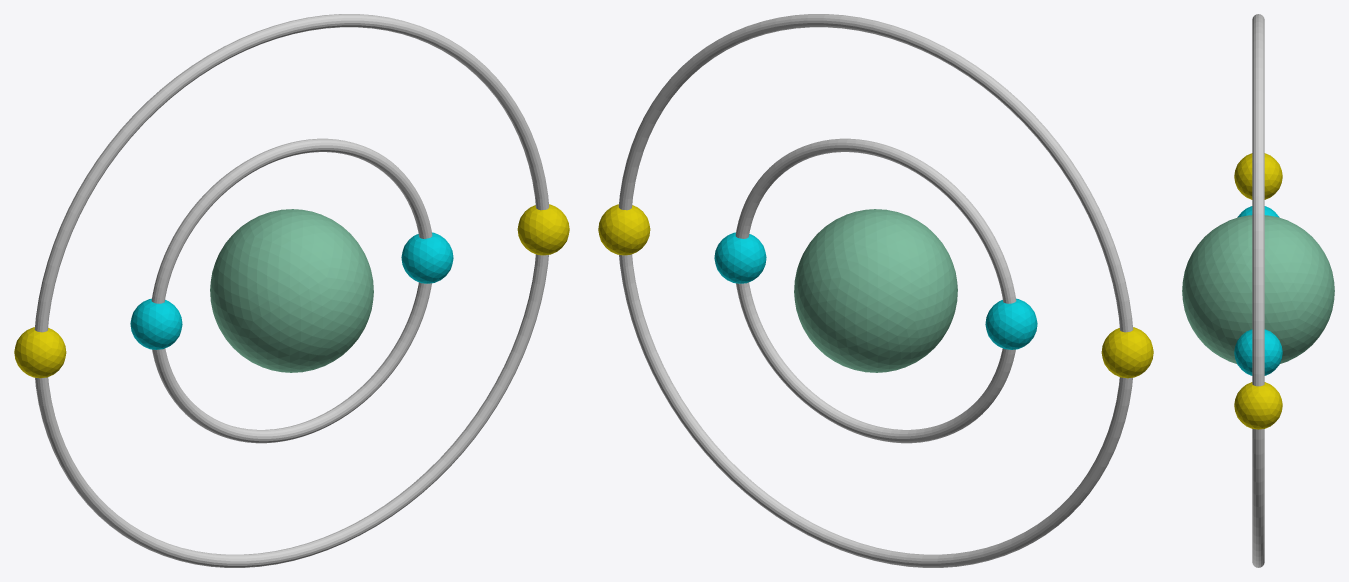
The picture shows the model from 3 angles, left to right: view 1: azimuth 30°, elevation 25°; view 2: azimuth 150°, elevation 25°; view 3: azimuth 270°, elevation 25°; orthographic projection. The views are drawn at different scales.
Visible parts, largest first — view 1: Camada_2, Nucleo_Be, Camada_1, e1_2, e2_2, e1_1, e2_1; view 2: Camada_2, Nucleo_Be, Camada_1, e1_2, e2_2, e1_1, e2_1; view 3: Nucleo_Be, Camada_2, e2_1, e2_2, e1_1.
Part boxes in pixels (left/top/right/bottom): Camada_2: left=34, top=14, right=549, bottom=567; Nucleo_Be: left=210, top=209, right=373, bottom=372; Camada_1: left=151, top=138, right=432, bottom=443; e1_2: left=130, top=298, right=182, bottom=349; e2_2: left=14, top=327, right=66, bottom=378; e1_1: left=401, top=232, right=453, bottom=283; e2_1: left=517, top=204, right=569, bottom=255; Camada_2: left=618, top=14, right=1133, bottom=567; Nucleo_Be: left=794, top=209, right=957, bottom=372; Camada_1: left=735, top=138, right=1016, bottom=443; e1_2: left=985, top=298, right=1037, bottom=349; e2_2: left=1101, top=327, right=1153, bottom=378; e1_1: left=714, top=232, right=766, bottom=283; e2_1: left=598, top=204, right=650, bottom=255; Nucleo_Be: left=1182, top=215, right=1334, bottom=363; Camada_2: left=1252, top=14, right=1264, bottom=567; e2_1: left=1234, top=382, right=1282, bottom=429; e2_2: left=1234, top=153, right=1282, bottom=199; e1_1: left=1234, top=329, right=1282, bottom=375.
Size of the model in its own units: 1.7 by 1.6 by 0.44.
